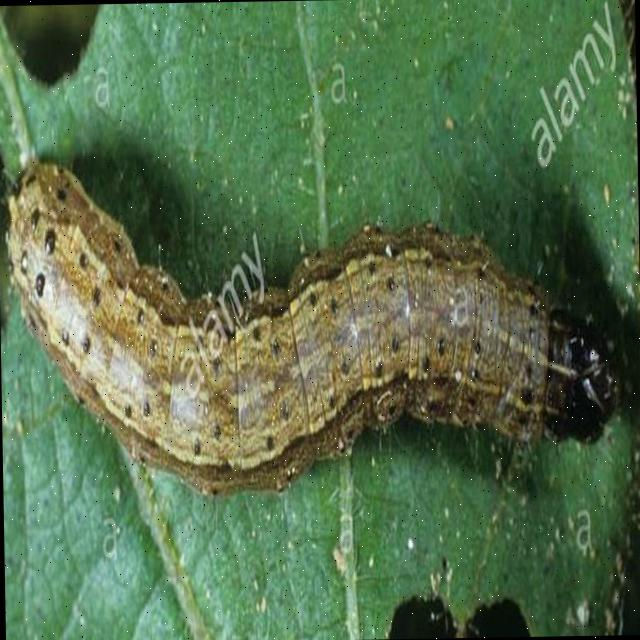worm: (1, 144, 623, 505)
